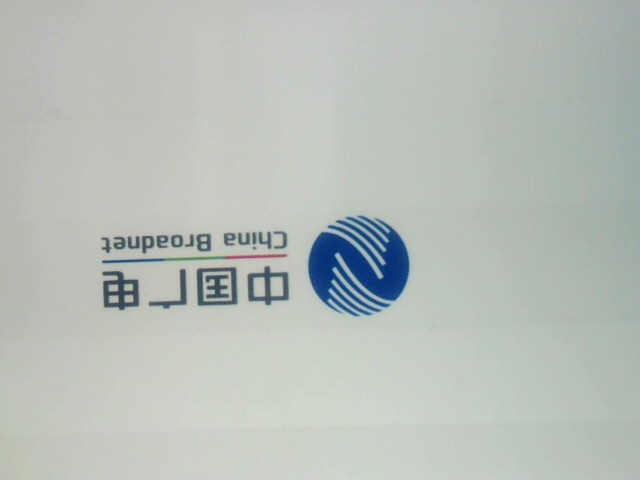AW_ChinaBroadNet: (82, 202, 420, 336)
